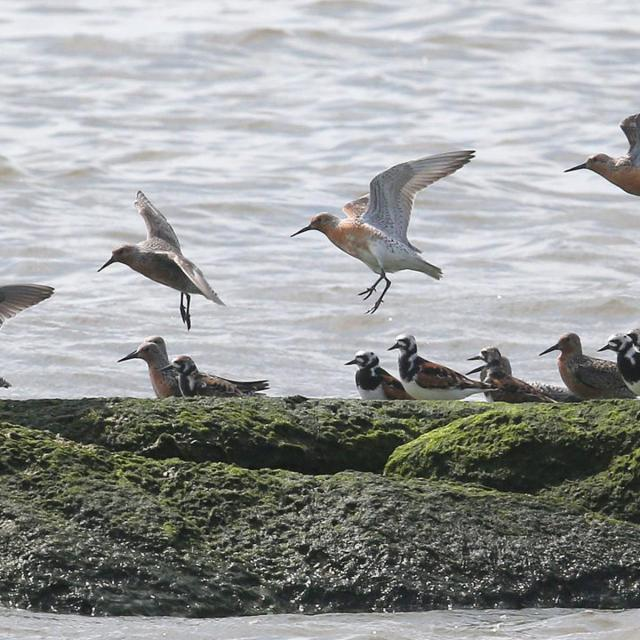bird: (290, 158, 458, 305), (91, 190, 232, 331), (116, 341, 274, 404), (561, 112, 640, 207), (541, 336, 640, 402), (389, 338, 480, 399), (166, 352, 266, 400), (466, 348, 540, 404), (344, 348, 406, 401)
